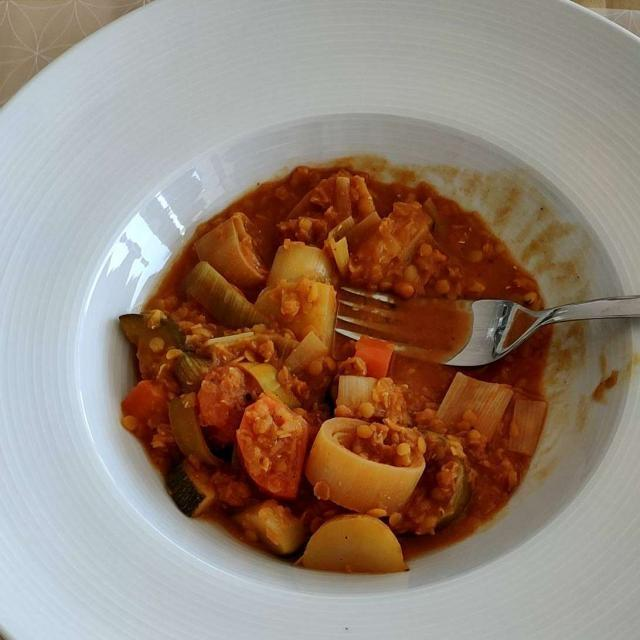lentils: (139, 170, 518, 538)
mixed-vegetables: (145, 211, 538, 578)
tomato-sauce: (248, 171, 522, 357)
